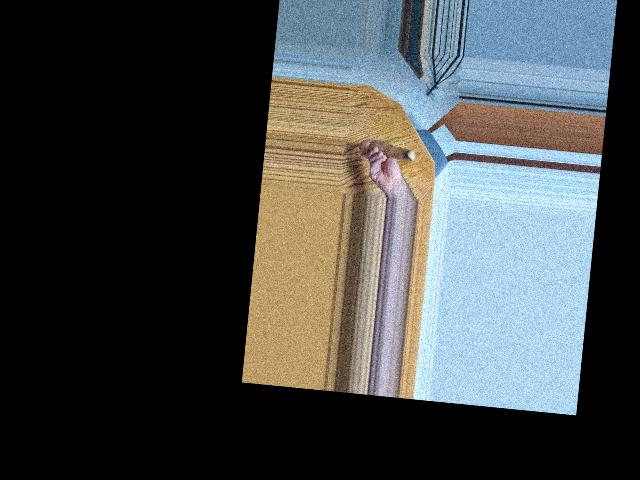sweet_potato: (357, 136, 414, 166)
